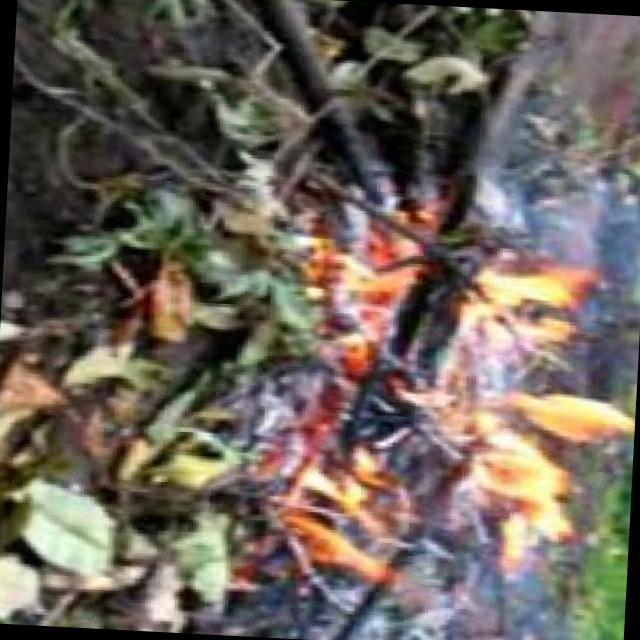Fire: (278, 200, 633, 623)
